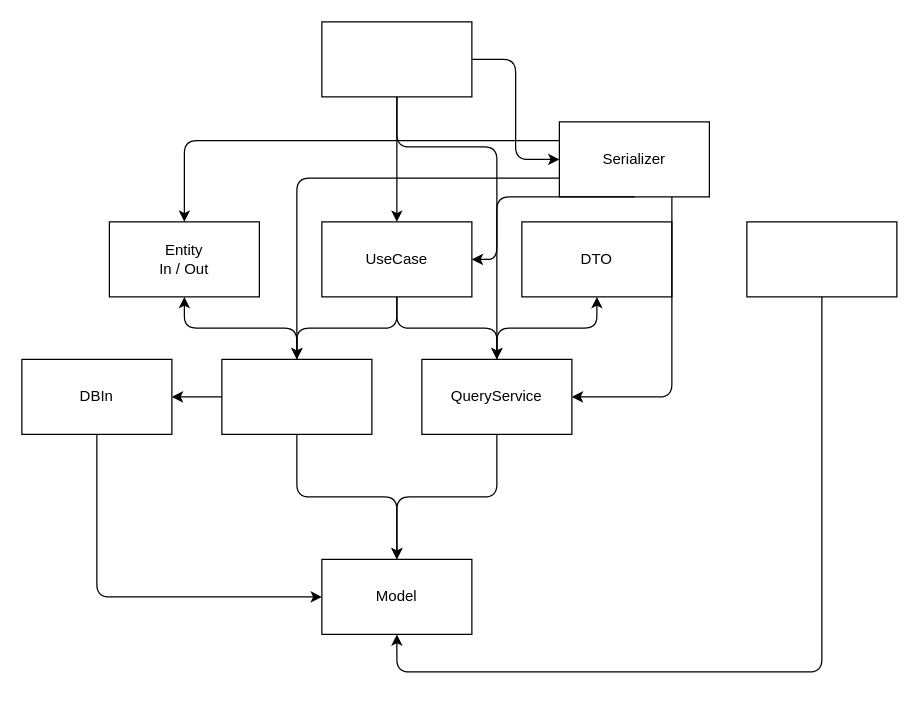
Some shapes in this 919 by 704 pixel diagram are drawn without their labels. Each missing label, with the box of its shape:
Job: (746, 221, 897, 297)
Repository: (221, 358, 372, 434)
Router: (321, 21, 472, 97)
